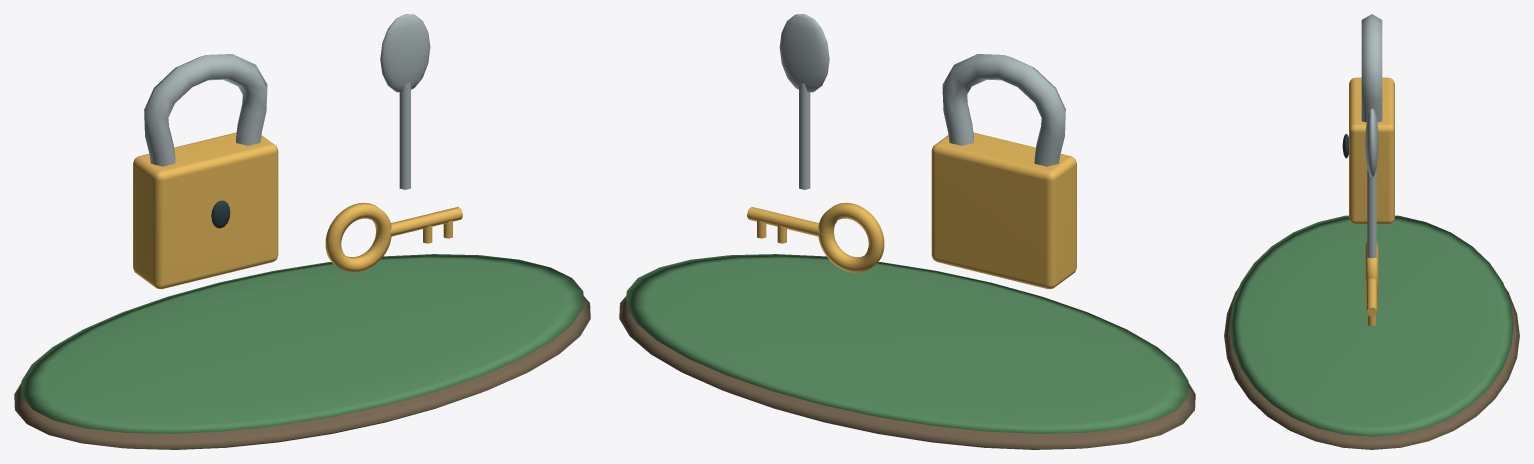
Rendered from lock-key.glb.
3 views of the same model, side by side, from view 1: azimuth 30°, elevation 25°; view 2: azimuth 150°, elevation 25°; view 3: azimuth 270°, elevation 25° (orthographic). The views are drawn at different scales.
Parts seen in each view (by area): view 1: lock-key_surface_01, lock-key_surface_02, lock-key_surface_03, lock-key_surface_00; view 2: lock-key_surface_01, lock-key_surface_02, lock-key_surface_03, lock-key_surface_00; view 3: lock-key_surface_01, lock-key_surface_02, lock-key_surface_00, lock-key_surface_03.
Boxes of the visible parts, box(x1,y1,x2,y2) form: lock-key_surface_01: box(21, 254, 583, 433); lock-key_surface_02: box(133, 132, 462, 289); lock-key_surface_03: box(144, 14, 430, 189); lock-key_surface_00: box(14, 296, 590, 449); lock-key_surface_01: box(626, 254, 1188, 433); lock-key_surface_02: box(747, 132, 1076, 289); lock-key_surface_03: box(779, 14, 1065, 189); lock-key_surface_00: box(619, 296, 1195, 449); lock-key_surface_01: box(1230, 215, 1513, 436); lock-key_surface_02: box(1349, 77, 1394, 326); lock-key_surface_00: box(1224, 287, 1519, 449); lock-key_surface_03: box(1361, 14, 1382, 258).
Size of the model in its own units: 4.56 by 2.7 by 2.5.
